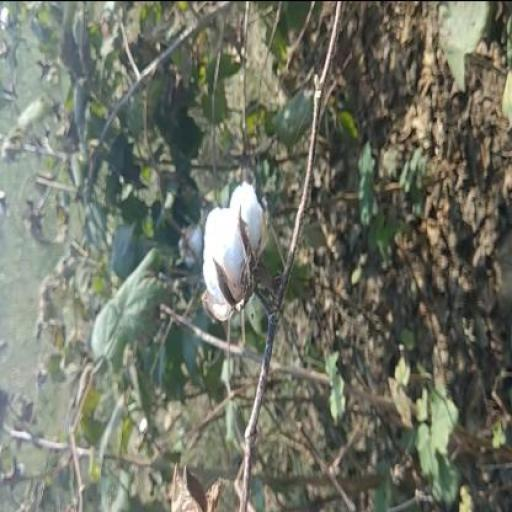cotton_ready: (196, 182, 289, 332)
